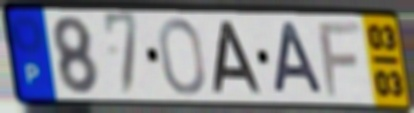7: (100, 9, 141, 102)
8: (51, 13, 103, 96)
A: (210, 19, 265, 96), (273, 20, 327, 96)
F: (316, 20, 364, 99)
O: (156, 15, 208, 97)
